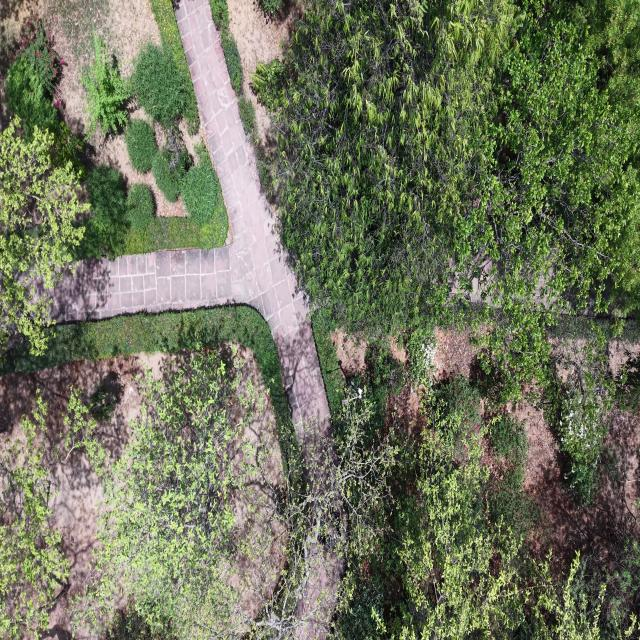DRY_AREA: (55, 0, 329, 435), (176, 0, 330, 446), (176, 0, 329, 426), (53, 204, 329, 428), (0, 352, 196, 639), (226, 0, 302, 150)
PATHWAYS: (53, 0, 329, 435), (53, 0, 329, 424)
VEGETATION_TREE: (0, 0, 639, 639), (253, 2, 639, 503), (105, 330, 636, 638), (86, 346, 637, 638), (254, 0, 638, 394), (314, 314, 637, 638), (318, 347, 634, 639), (99, 354, 398, 638), (254, 0, 514, 326), (335, 376, 636, 639), (18, 346, 285, 637), (281, 379, 525, 638), (476, 3, 639, 377), (85, 350, 277, 637), (5, 24, 227, 257), (6, 26, 227, 257), (6, 25, 226, 257), (7, 27, 227, 257), (339, 377, 526, 638), (0, 305, 296, 461), (494, 3, 637, 310), (99, 353, 244, 637), (254, 392, 401, 637), (387, 377, 523, 638), (79, 39, 227, 257), (0, 388, 104, 639), (125, 43, 228, 247), (0, 120, 88, 353), (76, 146, 228, 257), (0, 397, 69, 639), (76, 166, 228, 257), (126, 121, 228, 247), (5, 24, 85, 178), (546, 332, 615, 503), (210, 0, 268, 185), (569, 2, 639, 131), (558, 0, 639, 108), (575, 519, 639, 639), (485, 407, 540, 537), (523, 554, 605, 639), (6, 24, 63, 138), (151, 0, 199, 132), (131, 43, 192, 127), (51, 387, 107, 474), (82, 37, 129, 133), (81, 166, 128, 258), (6, 56, 57, 138), (126, 216, 226, 254), (182, 144, 226, 225), (312, 310, 345, 415), (20, 23, 64, 96), (210, 0, 243, 97), (365, 341, 406, 407), (152, 136, 190, 202), (487, 413, 527, 467), (52, 122, 86, 180), (406, 327, 437, 389), (125, 119, 157, 173), (89, 376, 123, 422), (615, 354, 639, 415), (221, 29, 243, 95), (106, 611, 154, 639), (126, 184, 154, 229), (238, 96, 255, 140), (210, 0, 229, 30), (259, 0, 283, 19)
